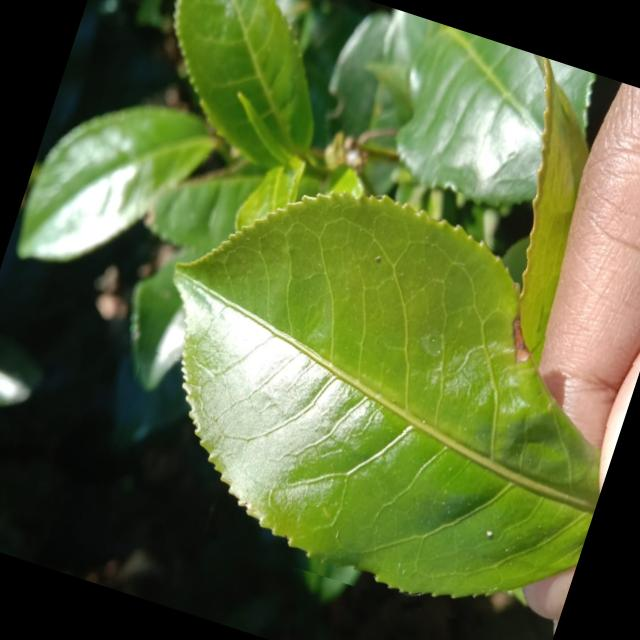Category B(2-4 days): (92, 121, 640, 640)
